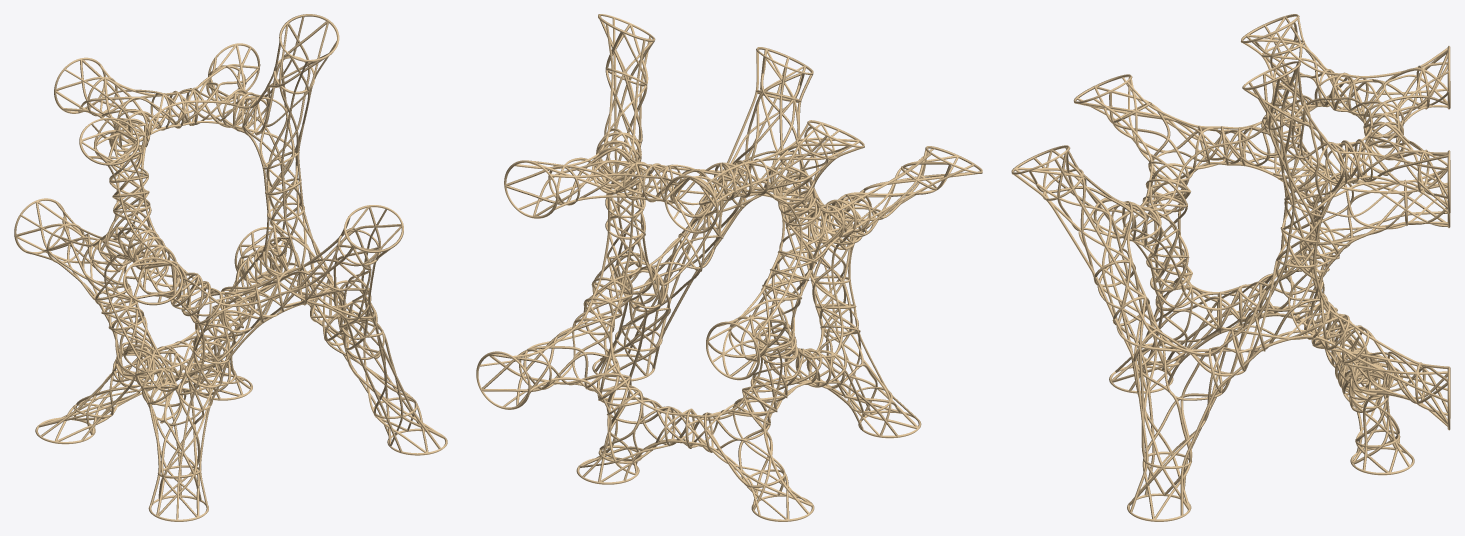
The model's file is xr-research-assembly.glb.
3 renders of one model, left to right at view 1: azimuth 30°, elevation 25°; view 2: azimuth 150°, elevation 25°; view 3: azimuth 270°, elevation 25°, orthographic. The views are drawn at different scales.
Parts seen in each view (by area): view 1: XR research bamboo assembly; view 2: XR research bamboo assembly; view 3: XR research bamboo assembly.
Part boxes in pixels (bbox=[...]): XR research bamboo assembly: bbox=[14, 14, 447, 521]; XR research bamboo assembly: bbox=[476, 14, 982, 521]; XR research bamboo assembly: bbox=[1011, 14, 1450, 521].
Bounding box in the file's own units: 1.5 × 1.65 × 1.57.
